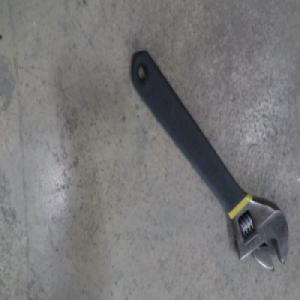AdjustableWrench: (130, 47, 289, 272)
